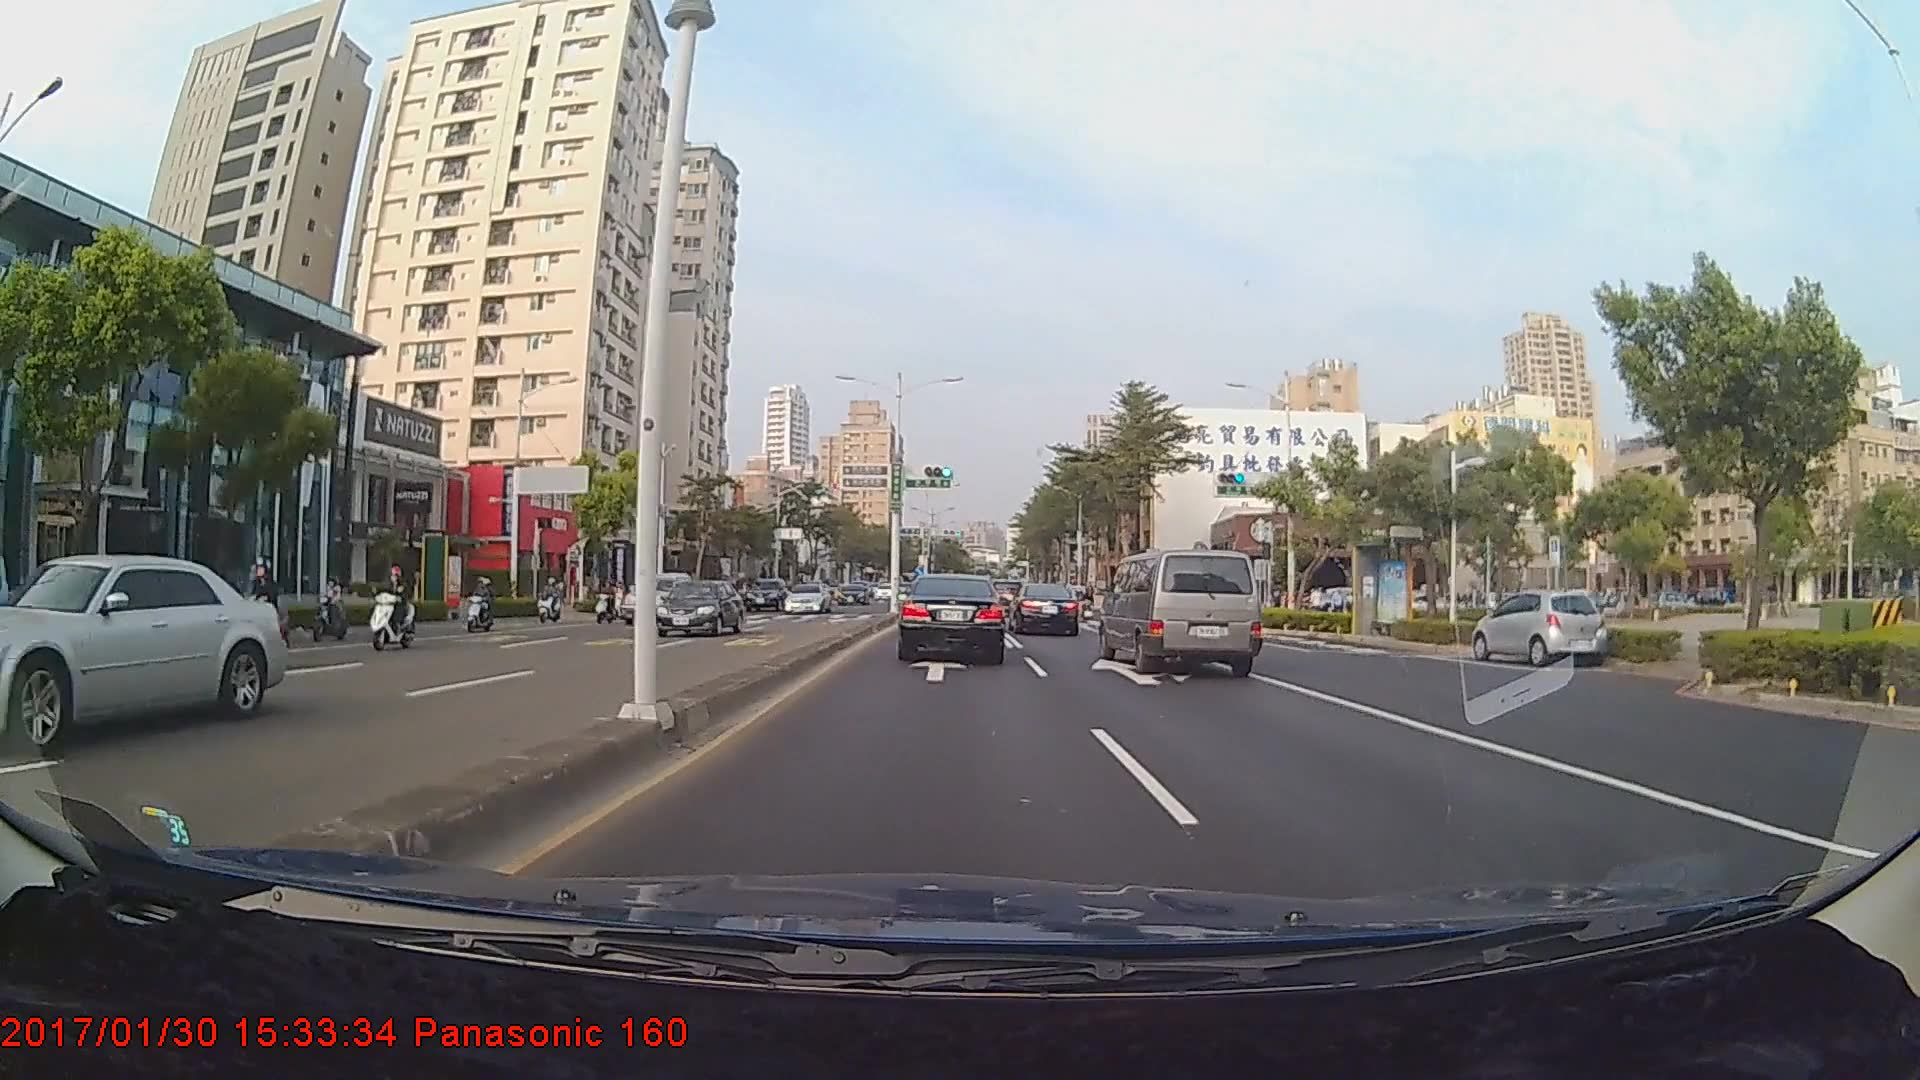rider: (235, 554, 294, 666), (363, 562, 426, 651), (308, 574, 354, 648), (465, 572, 499, 637)
vehicle: (0, 553, 282, 749), (1098, 541, 1265, 679), (1471, 589, 1605, 667), (897, 572, 1006, 663), (660, 579, 747, 638), (618, 570, 695, 627), (1007, 582, 1082, 636), (744, 575, 788, 613), (781, 583, 831, 614), (836, 581, 871, 606)
